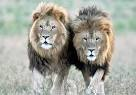lion: (68, 5, 112, 95), (33, 9, 72, 94)
